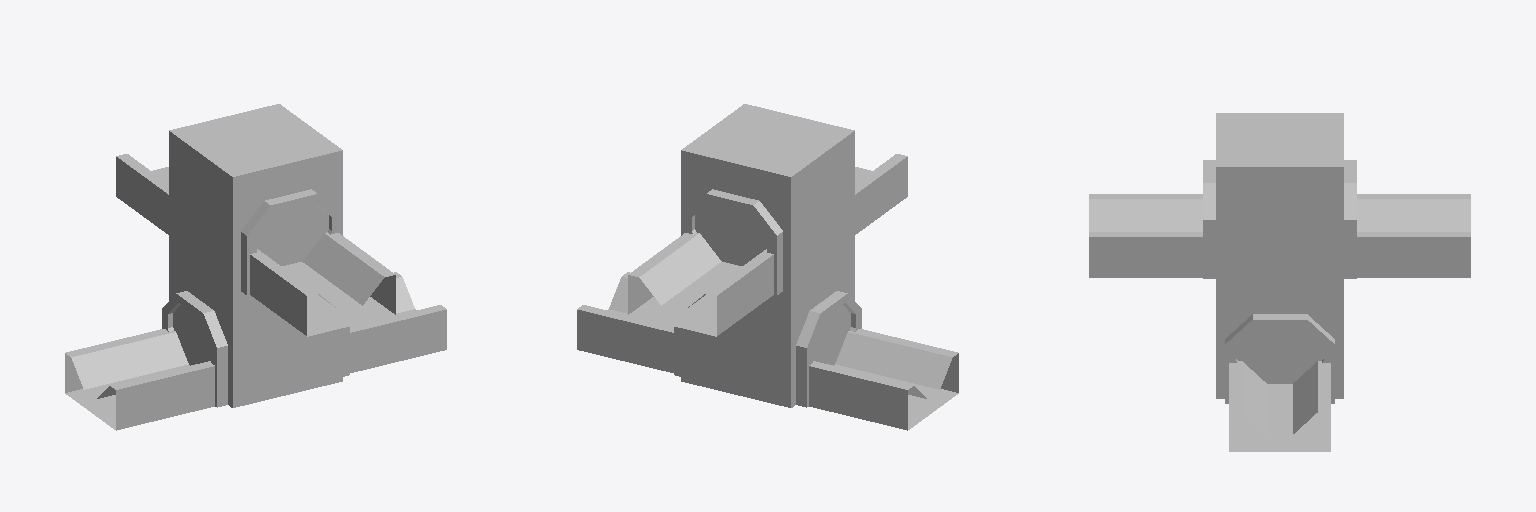
The model's file is VerticalZipper_2_IoPortShape_LooseMaterialConveyor.obj.
The picture shows the model from 3 angles: view 1: azimuth 30°, elevation 25°; view 2: azimuth 150°, elevation 25°; view 3: azimuth 270°, elevation 25°; orthographic projection.
Size of the model in its own units: 6 by 4 by 6.